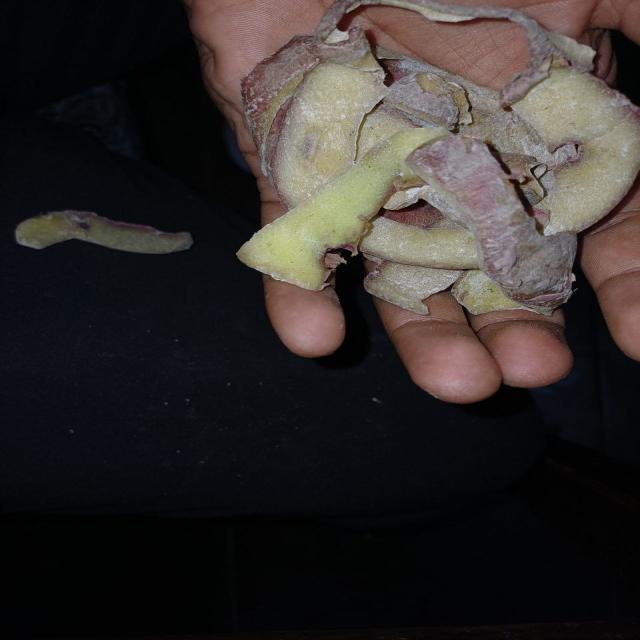organic: (236, 0, 640, 314)
